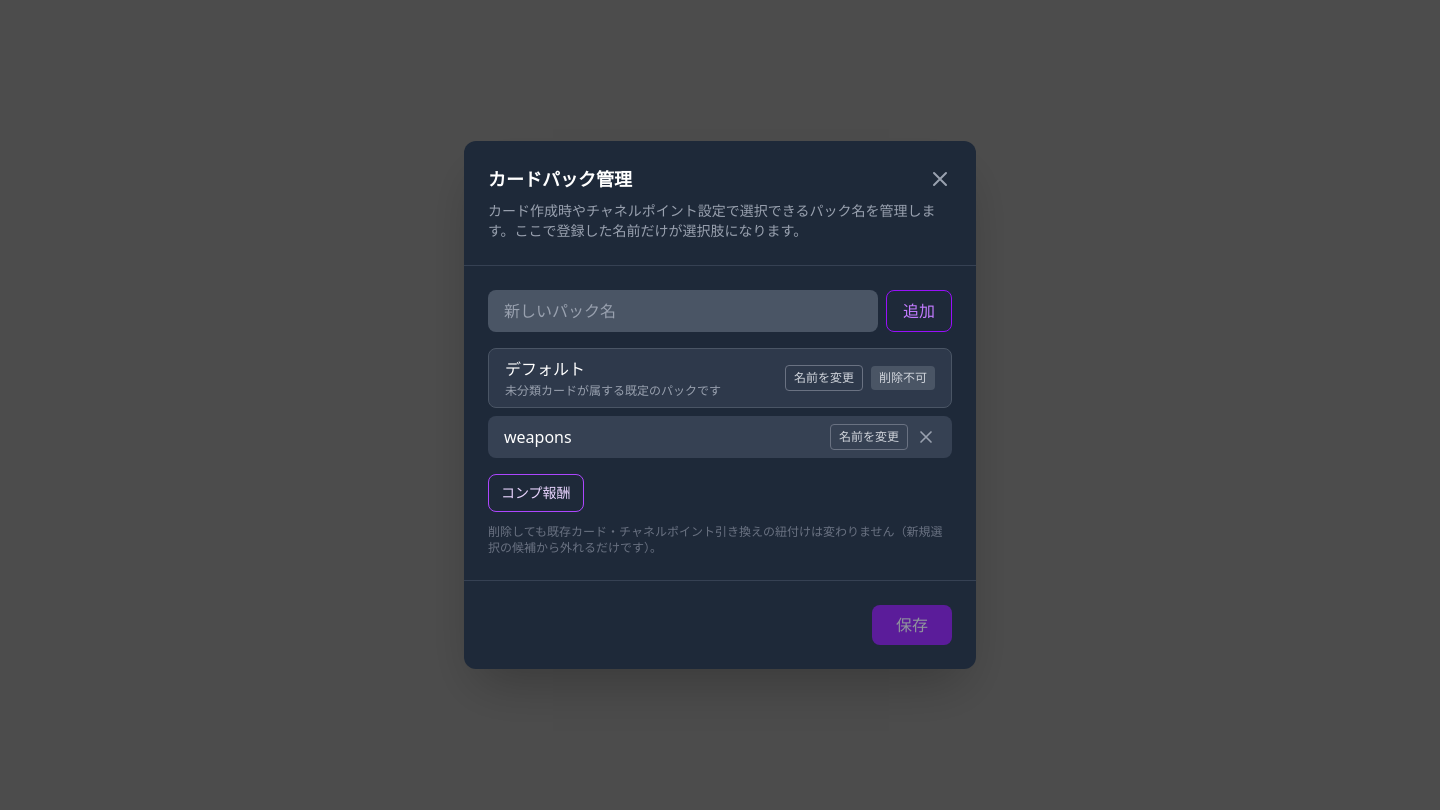
Test: CardPackModal › does NOT close and shows a notice when the server drops a gated addition
Type "armor" into the field with placeholder "新しいパック名".
click(683, 311); type("armor")  # box [488,290,878,332]
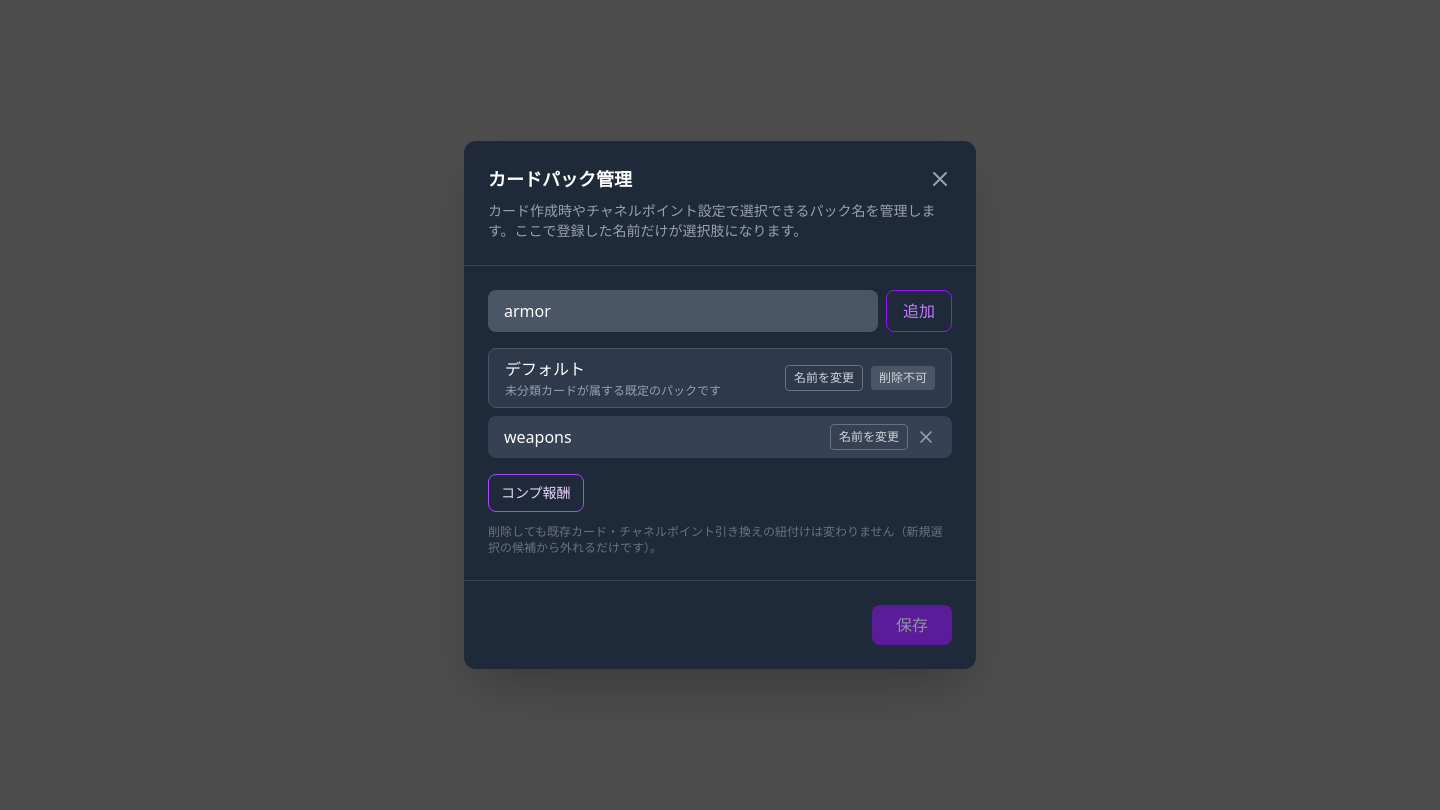
Click the button "追加".
click(919, 311)  # box [886,290,952,332]
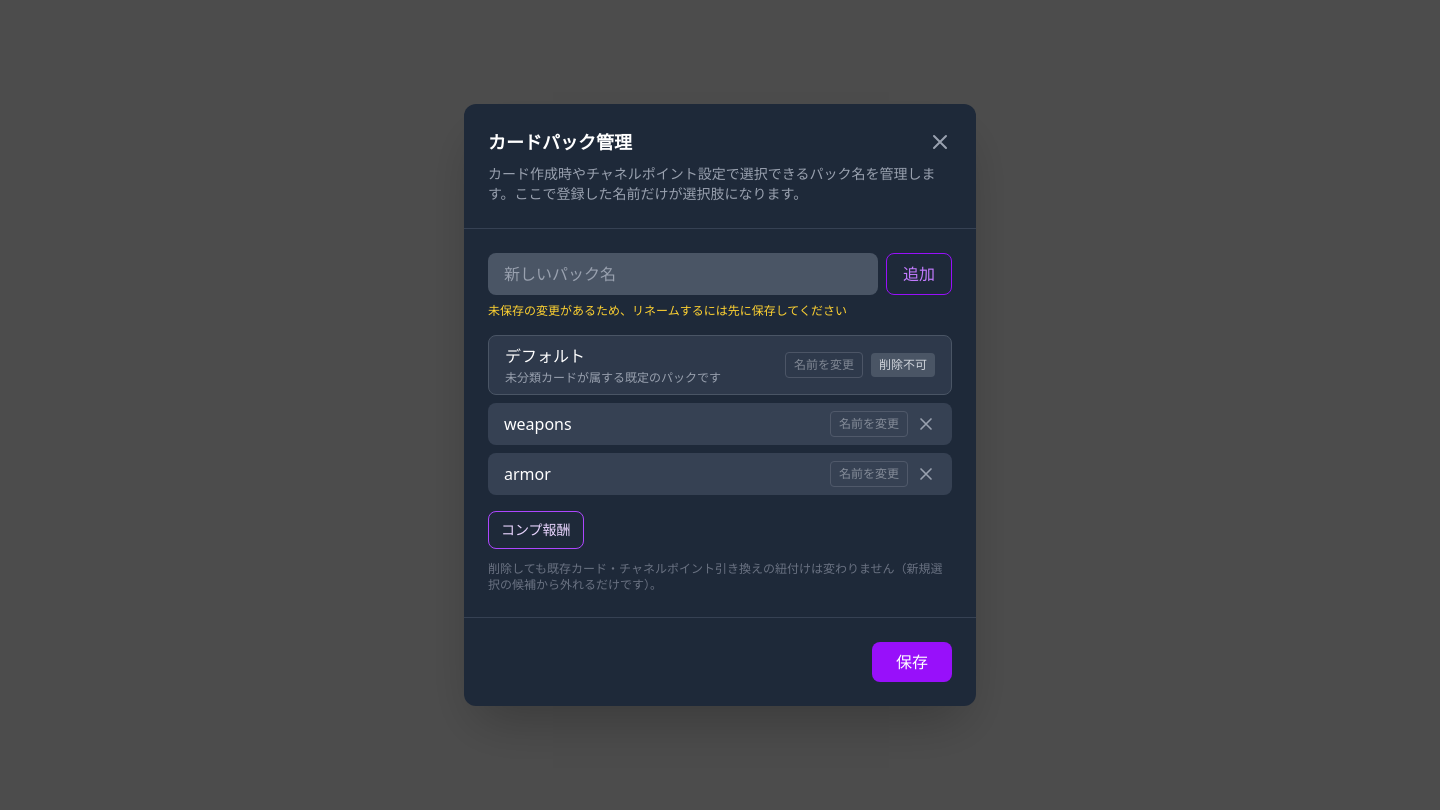
Click the button "保存".
click(912, 662)  # box [872,642,952,682]
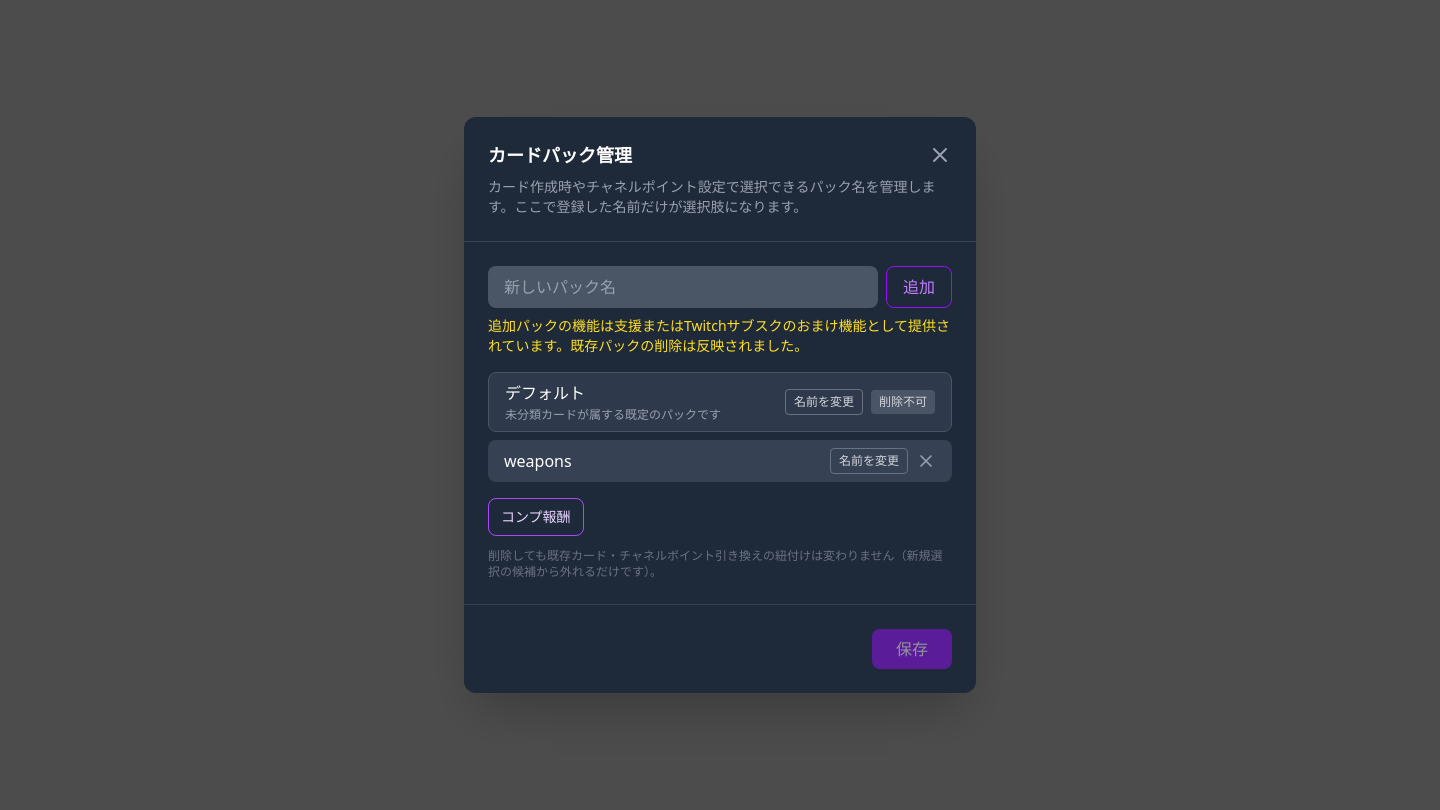
Expected: the text "追加パックの機能は支援またはTwitchサブスクのおまけ機能として提供されています。既存パックの削除は反映されました。" is shown, [488,316,952,356]
